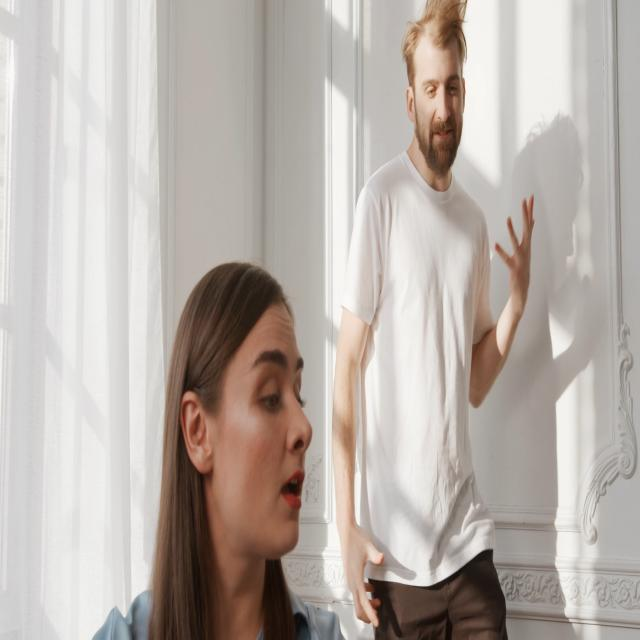Thinking: (386, 2, 482, 217)
satisfied: (169, 249, 352, 570)
